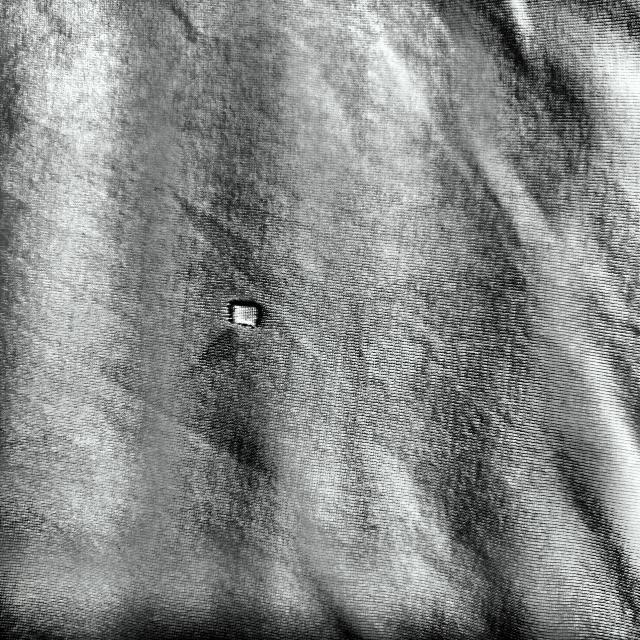Hole: (218, 288, 272, 337)
